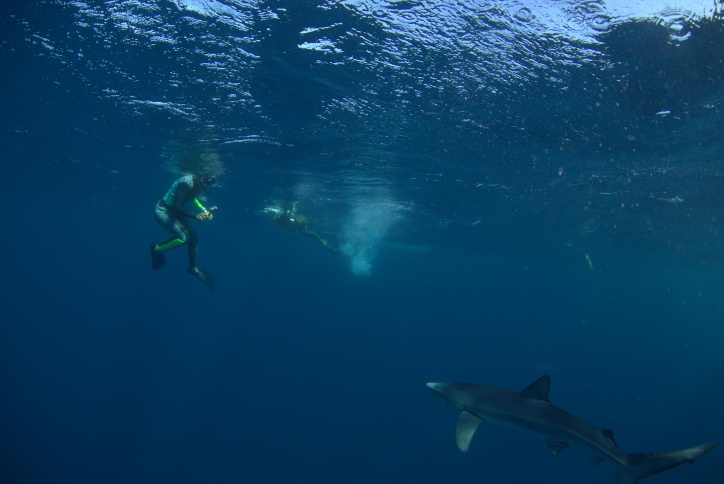Azul: (410, 368, 724, 480)
